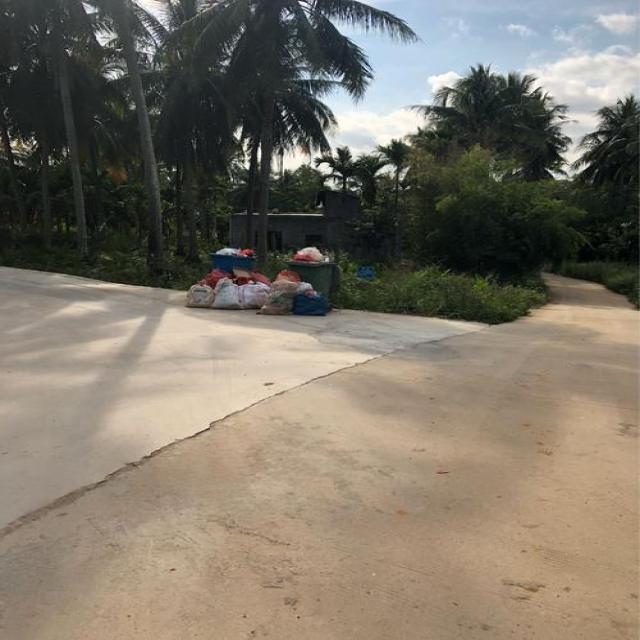garbage: (183, 266, 329, 315)
overflow: (286, 246, 334, 294), (208, 246, 254, 268)
